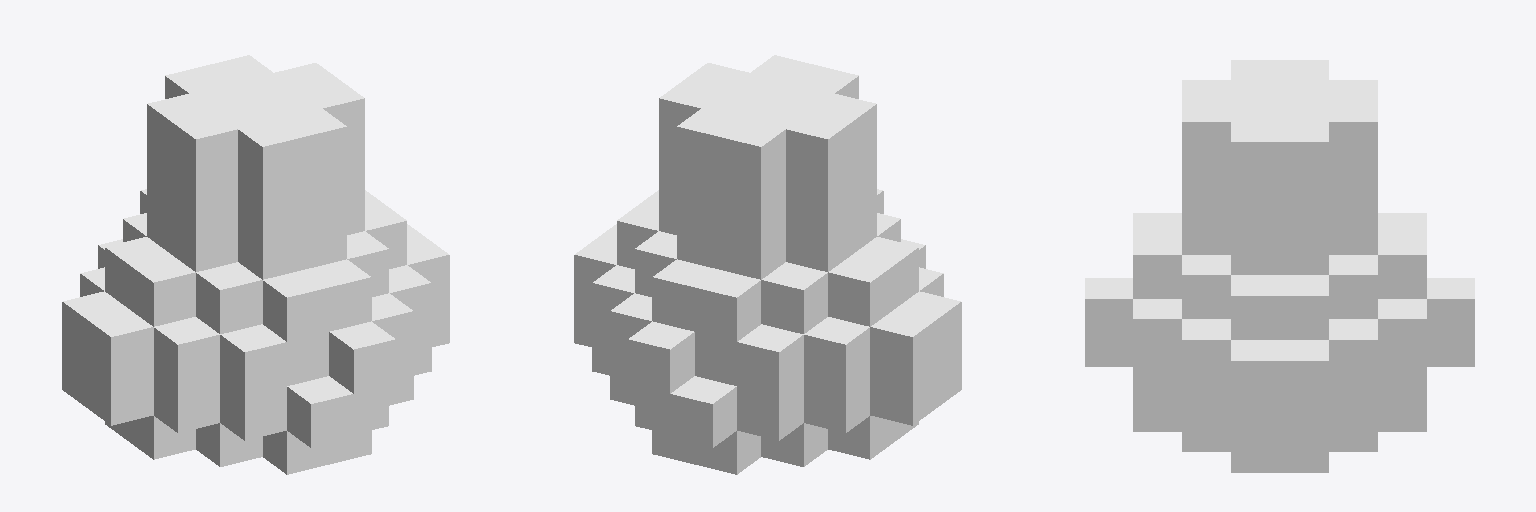
File: MP_Posion.obj
3 views of the same model, side by side, from view 1: azimuth 30°, elevation 25°; view 2: azimuth 150°, elevation 25°; view 3: azimuth 270°, elevation 25° (orthographic).
Parts seen in each view (by area): view 1: object 1; view 2: object 1; view 3: object 1.
Part boxes in pixels (bbox=[...]): object 1: bbox=[62, 55, 449, 474]; object 1: bbox=[574, 55, 961, 474]; object 1: bbox=[1085, 60, 1474, 472].
Size of the model in its own units: 0.8 by 0.7 by 0.8.